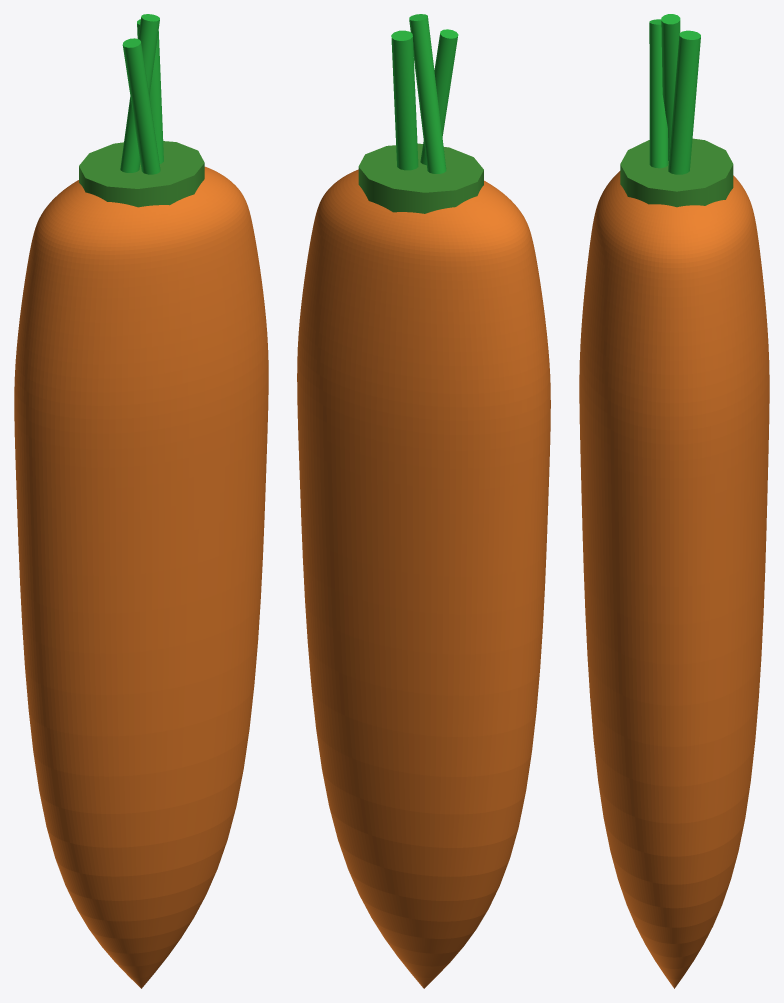
File: ninjin_blender.fbx
3 views of the same model, side by side, from view 1: azimuth 30°, elevation 25°; view 2: azimuth 150°, elevation 25°; view 3: azimuth 270°, elevation 25° (orthographic).
Parts seen in each view (by area): view 1: 球, NURBSパス, NURBSパス.001, NURBSパス.003, NURBSパス.002; view 2: 球, NURBSパス, NURBSパス.003, NURBSパス.002, NURBSパス.001; view 3: 球, NURBSパス, NURBSパス.002, NURBSパス.001, NURBSパス.003.
Boxes of the visible parts, <box> form: 球: <box>14,166,268,988</box>; NURBSパス: <box>79,141,204,207</box>; NURBSパス.001: <box>122,38,160,174</box>; NURBSパス.003: <box>120,14,159,172</box>; NURBSパス.002: <box>137,19,163,163</box>; 球: <box>297,169,550,988</box>; NURBSパス: <box>358,143,483,213</box>; NURBSパス.003: <box>409,14,446,173</box>; NURBSパス.002: <box>391,30,418,170</box>; NURBSパス.001: <box>420,29,458,164</box>; 球: <box>579,171,769,988</box>; NURBSパス: <box>620,138,733,207</box>; NURBSパス.002: <box>668,30,700,174</box>; NURBSパス.001: <box>649,19,668,168</box>; NURBSパス.003: <box>661,14,680,160</box>.
Bounding box in the file's own units: 61.14 × 241 × 42.54.
